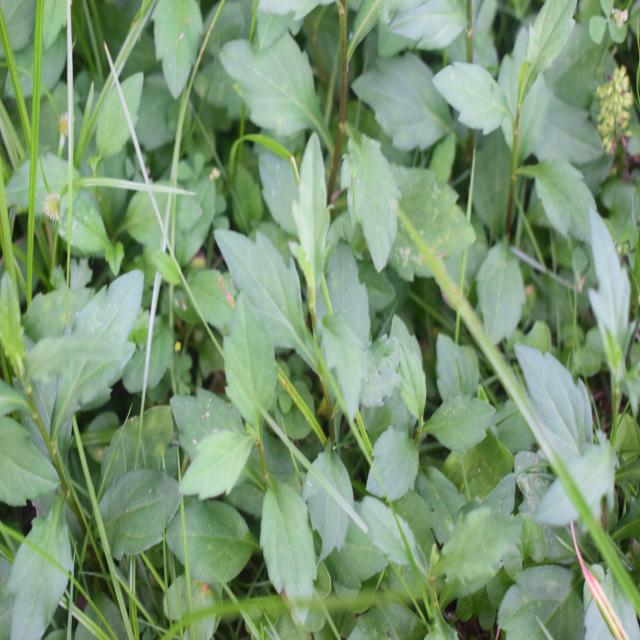Indian aster: (248, 155, 394, 524), (451, 28, 588, 360), (196, 318, 316, 606), (371, 306, 487, 519)
